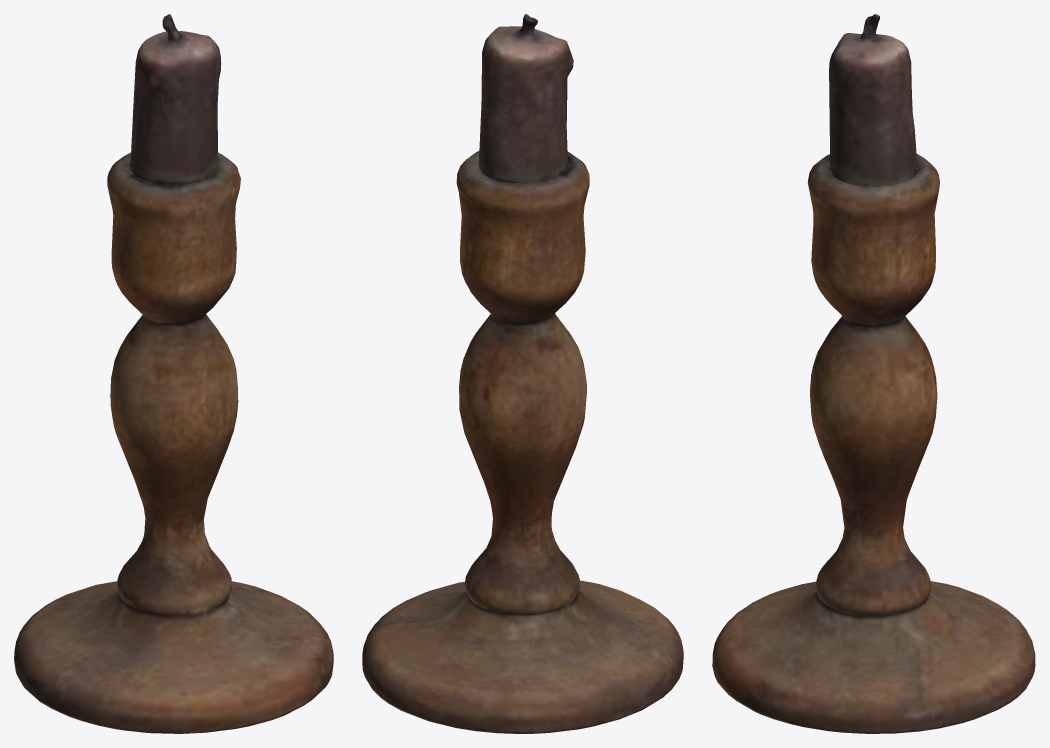
File: candlestick.glb
3 renders of one model, left to right at view 1: azimuth 30°, elevation 25°; view 2: azimuth 150°, elevation 25°; view 3: azimuth 270°, elevation 25°, orthographic.
Parts seen in each view (by area): view 1: wooden_candlestick; view 2: wooden_candlestick; view 3: wooden_candlestick.
Part boxes in pixels (left/top/right/bottom): wooden_candlestick: left=14, top=14, right=333, bottom=733; wooden_candlestick: left=362, top=14, right=683, bottom=733; wooden_candlestick: left=712, top=14, right=1035, bottom=733.
Size of the model in its own units: 0.0972 by 0.2196 by 0.0986.
1 material, 1 textured.
